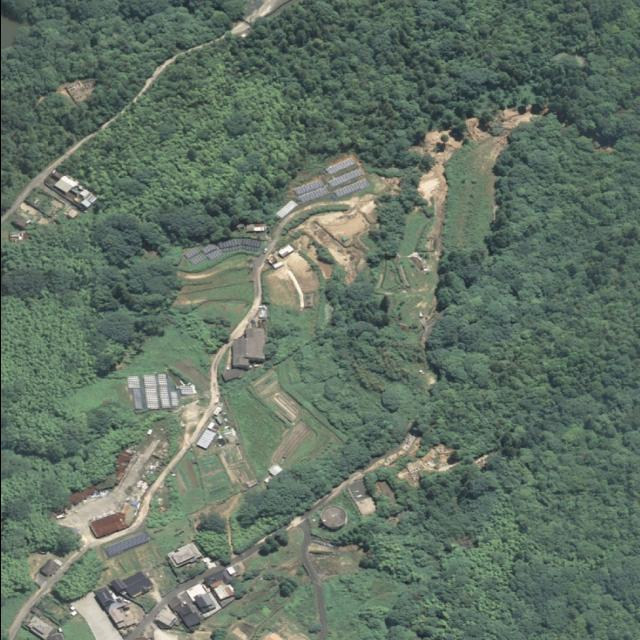landslide: (414, 129, 463, 259), (466, 108, 537, 172), (397, 444, 458, 486), (394, 435, 420, 456), (423, 313, 441, 340), (408, 252, 429, 272)
